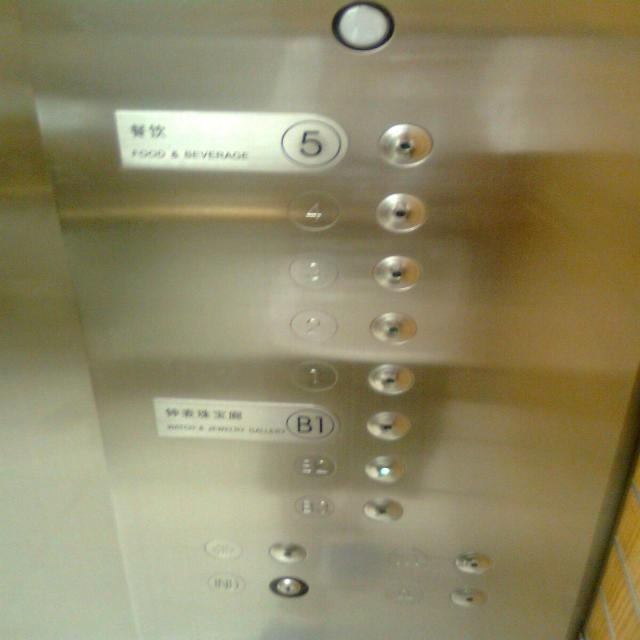1: (286, 358, 342, 395)
2: (286, 307, 342, 344)
3: (283, 252, 340, 292)
4: (284, 190, 345, 233)
5: (275, 116, 347, 170)
B1: (282, 406, 338, 443)
B2: (288, 450, 339, 484)
B3: (289, 489, 340, 523)
alarm: (379, 578, 430, 609)
close: (382, 544, 432, 575)
empty: (327, 0, 397, 55)
indicator: (371, 119, 438, 170), (367, 190, 432, 237), (360, 307, 423, 348), (368, 250, 426, 294), (360, 406, 417, 446), (362, 360, 418, 399), (359, 452, 410, 486), (358, 493, 408, 527), (262, 534, 312, 568), (446, 549, 495, 577), (442, 583, 492, 610)
keyhole: (264, 572, 314, 600)
open: (196, 532, 248, 566)
text: (200, 570, 249, 597)
